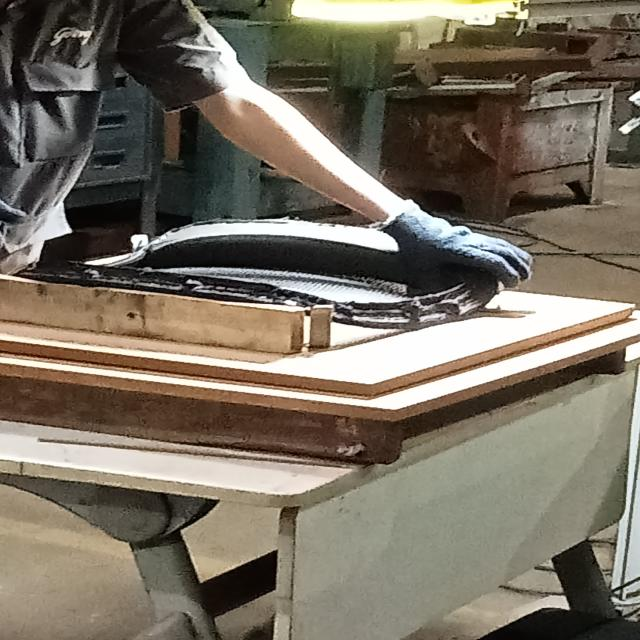Gloves-Detection: (371, 204, 535, 288)
